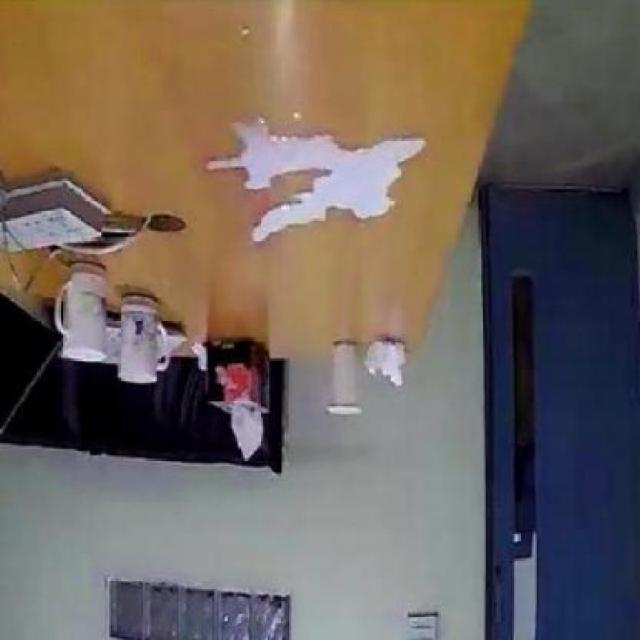spillage: (205, 115, 426, 241)
